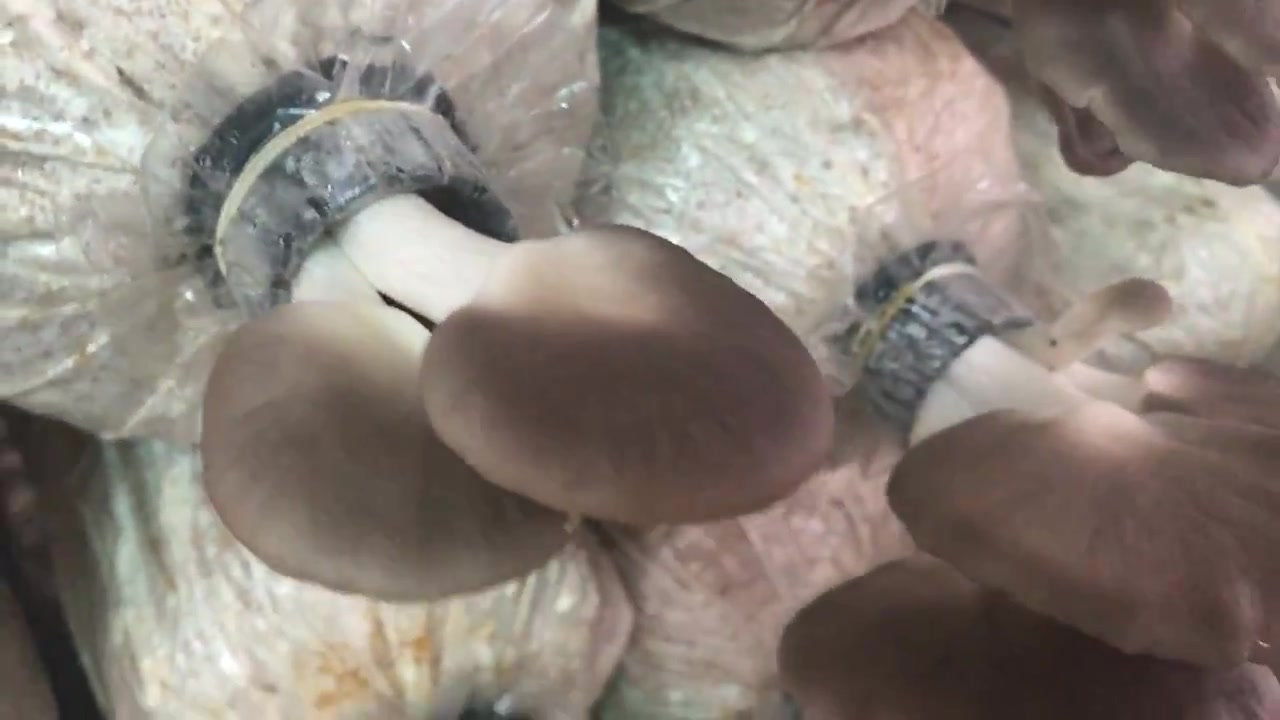nam: (205, 93, 832, 599), (782, 278, 1280, 720), (1010, 1, 1280, 187)
